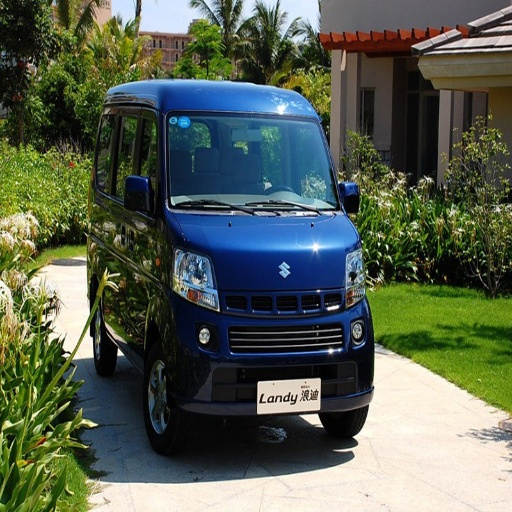front_bumper: (172, 286, 369, 427)
front_right_door: (117, 104, 163, 271)
front_right_light: (172, 249, 221, 310)
hood: (175, 210, 358, 287)
